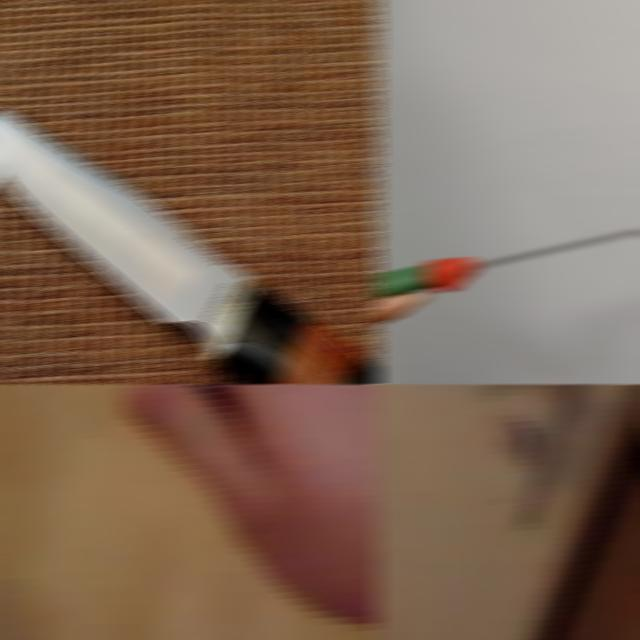Knife: (373, 227, 640, 300)
Knife_Handle: (0, 384, 381, 601), (373, 384, 503, 640)
